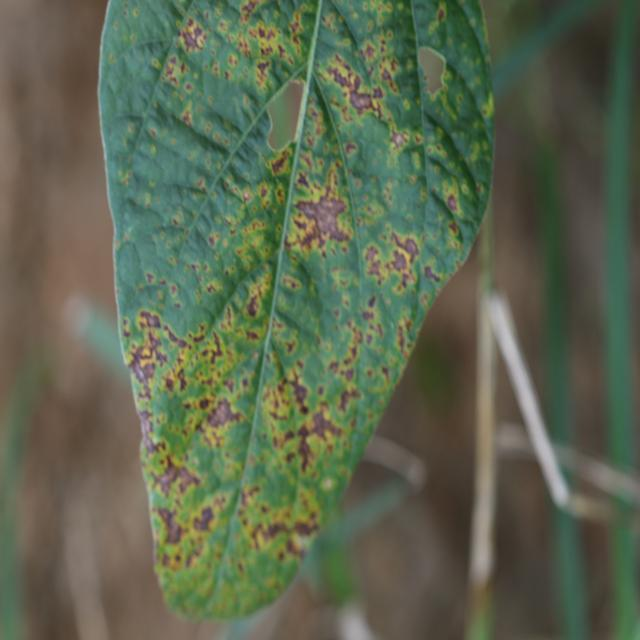Bacterial_Blight: (253, 360, 345, 504), (169, 329, 248, 436), (156, 471, 231, 565), (288, 178, 353, 263), (225, 8, 294, 72), (372, 229, 423, 290), (127, 321, 170, 392), (224, 203, 272, 264), (322, 50, 369, 105), (323, 326, 362, 384), (161, 54, 189, 92), (135, 406, 158, 452), (282, 372, 309, 410), (180, 21, 207, 53), (270, 149, 290, 176), (137, 309, 162, 330), (246, 291, 262, 317), (390, 130, 406, 149), (363, 42, 377, 63), (296, 171, 310, 188), (180, 109, 193, 127), (119, 169, 131, 186), (447, 193, 458, 211), (437, 8, 445, 23), (146, 272, 155, 285), (243, 190, 251, 202), (208, 236, 215, 247)
Soybean: (99, 0, 494, 618)
